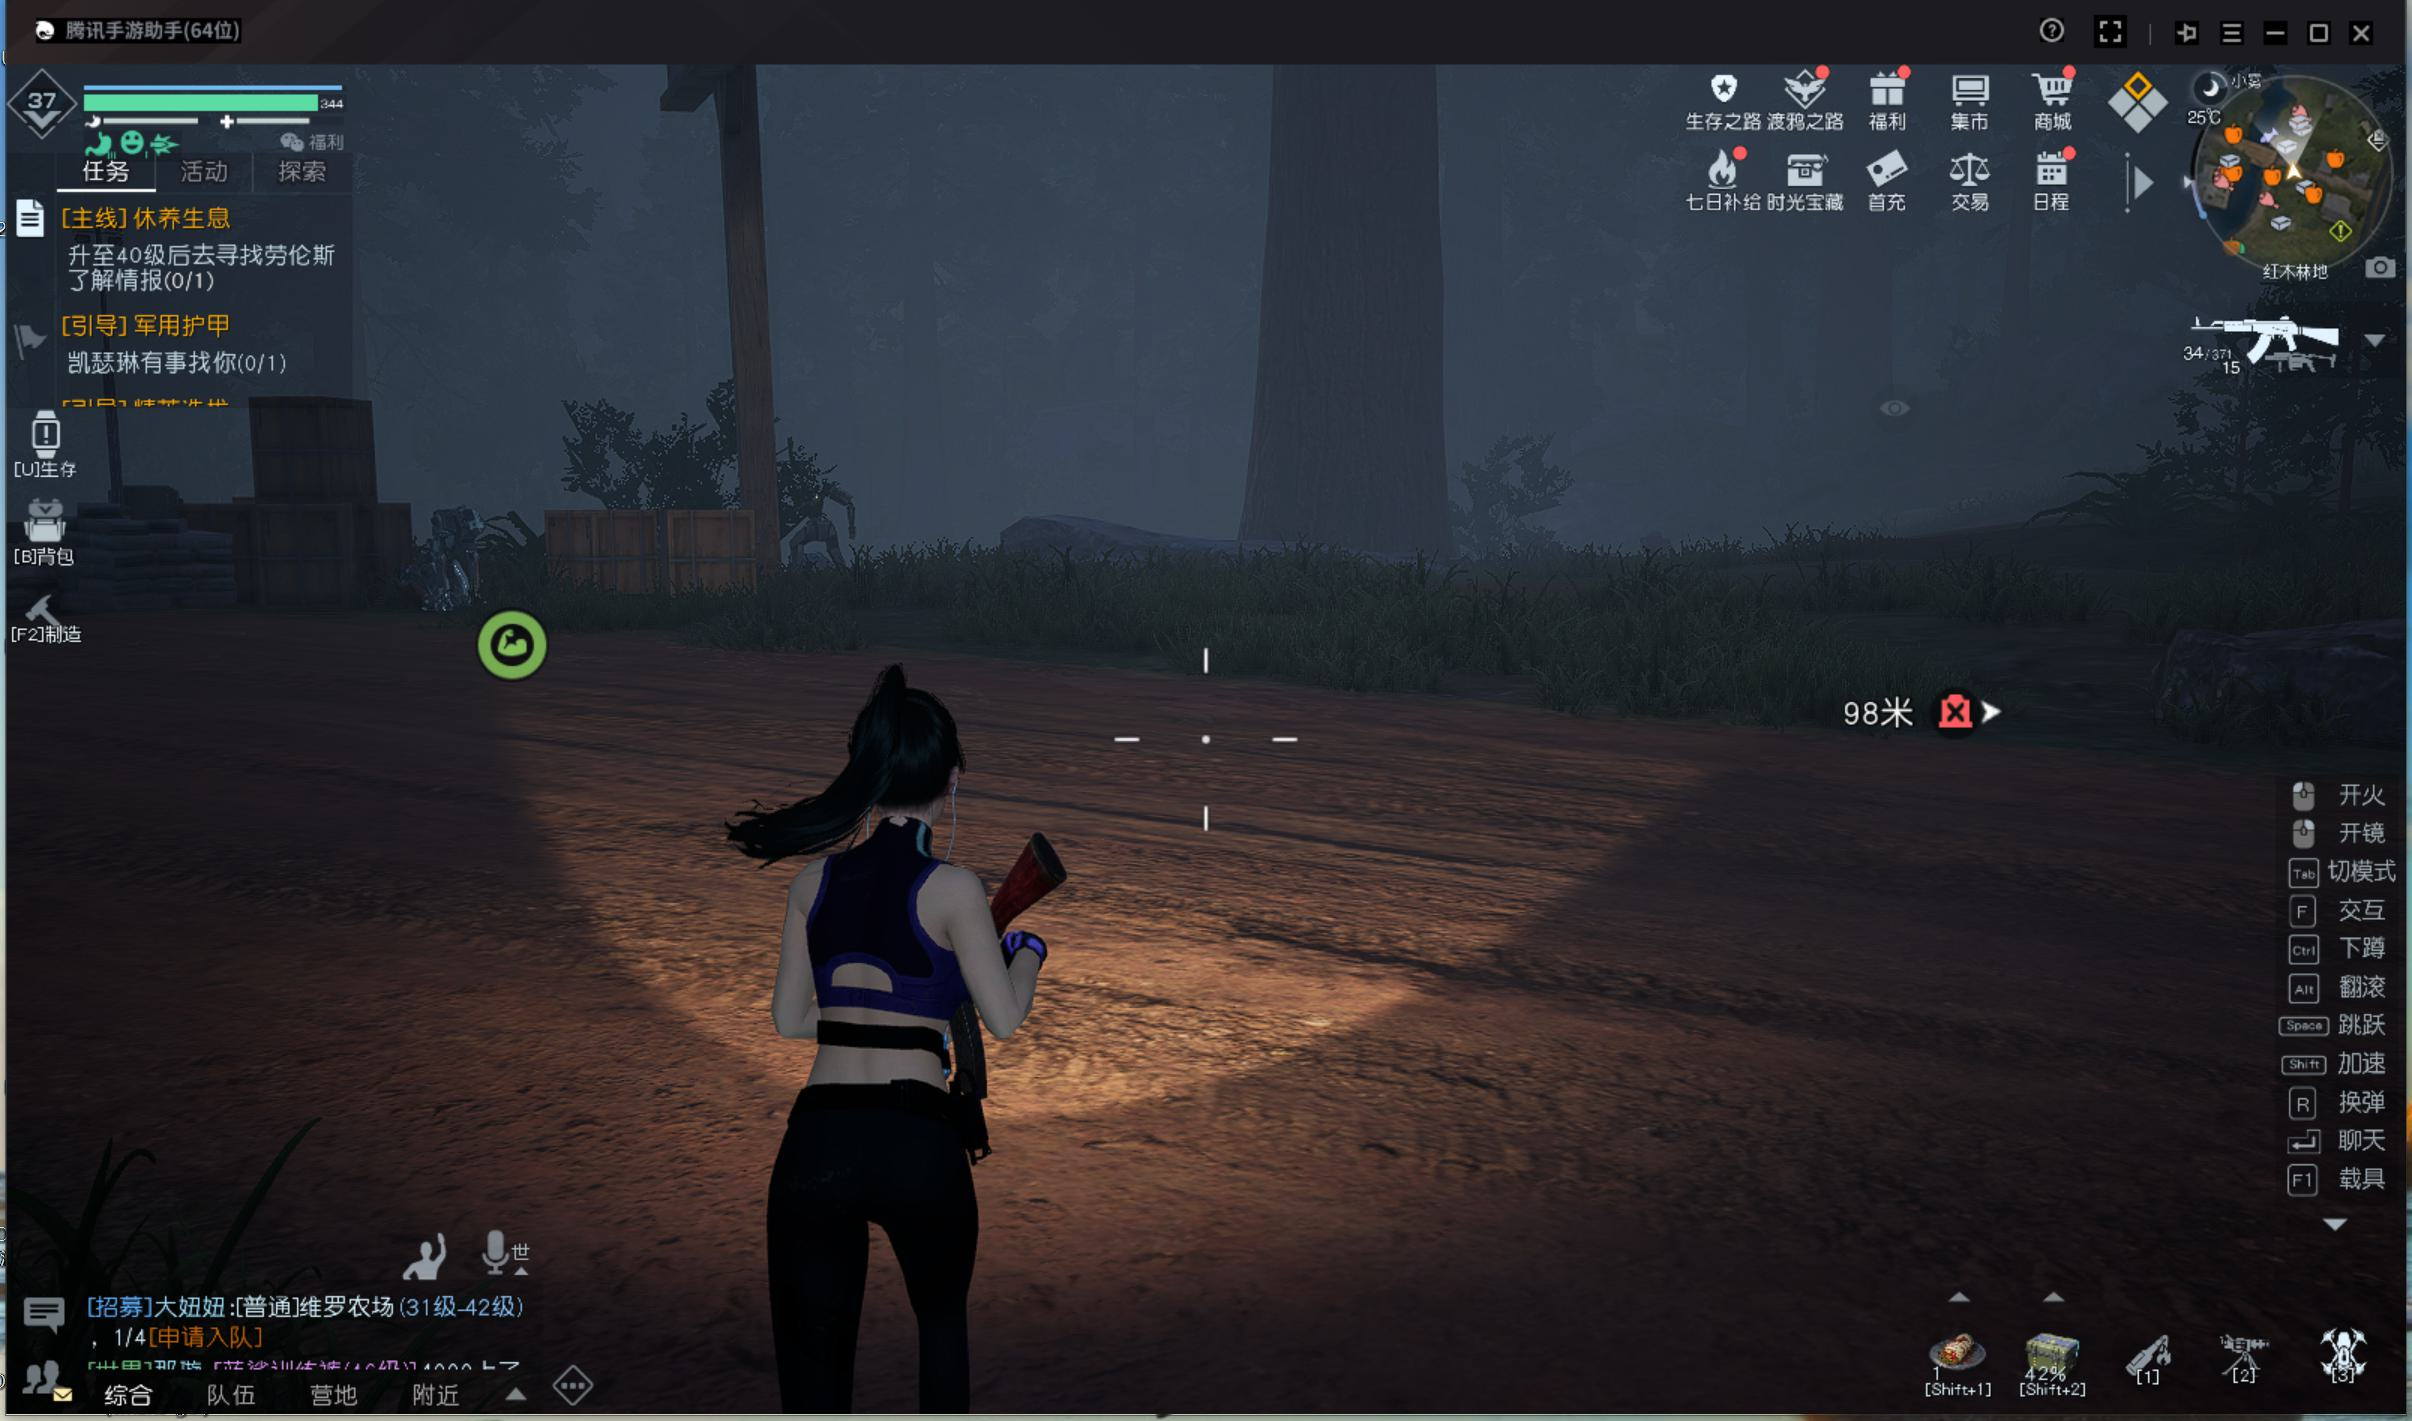tree: (1243, 101, 1472, 624)
